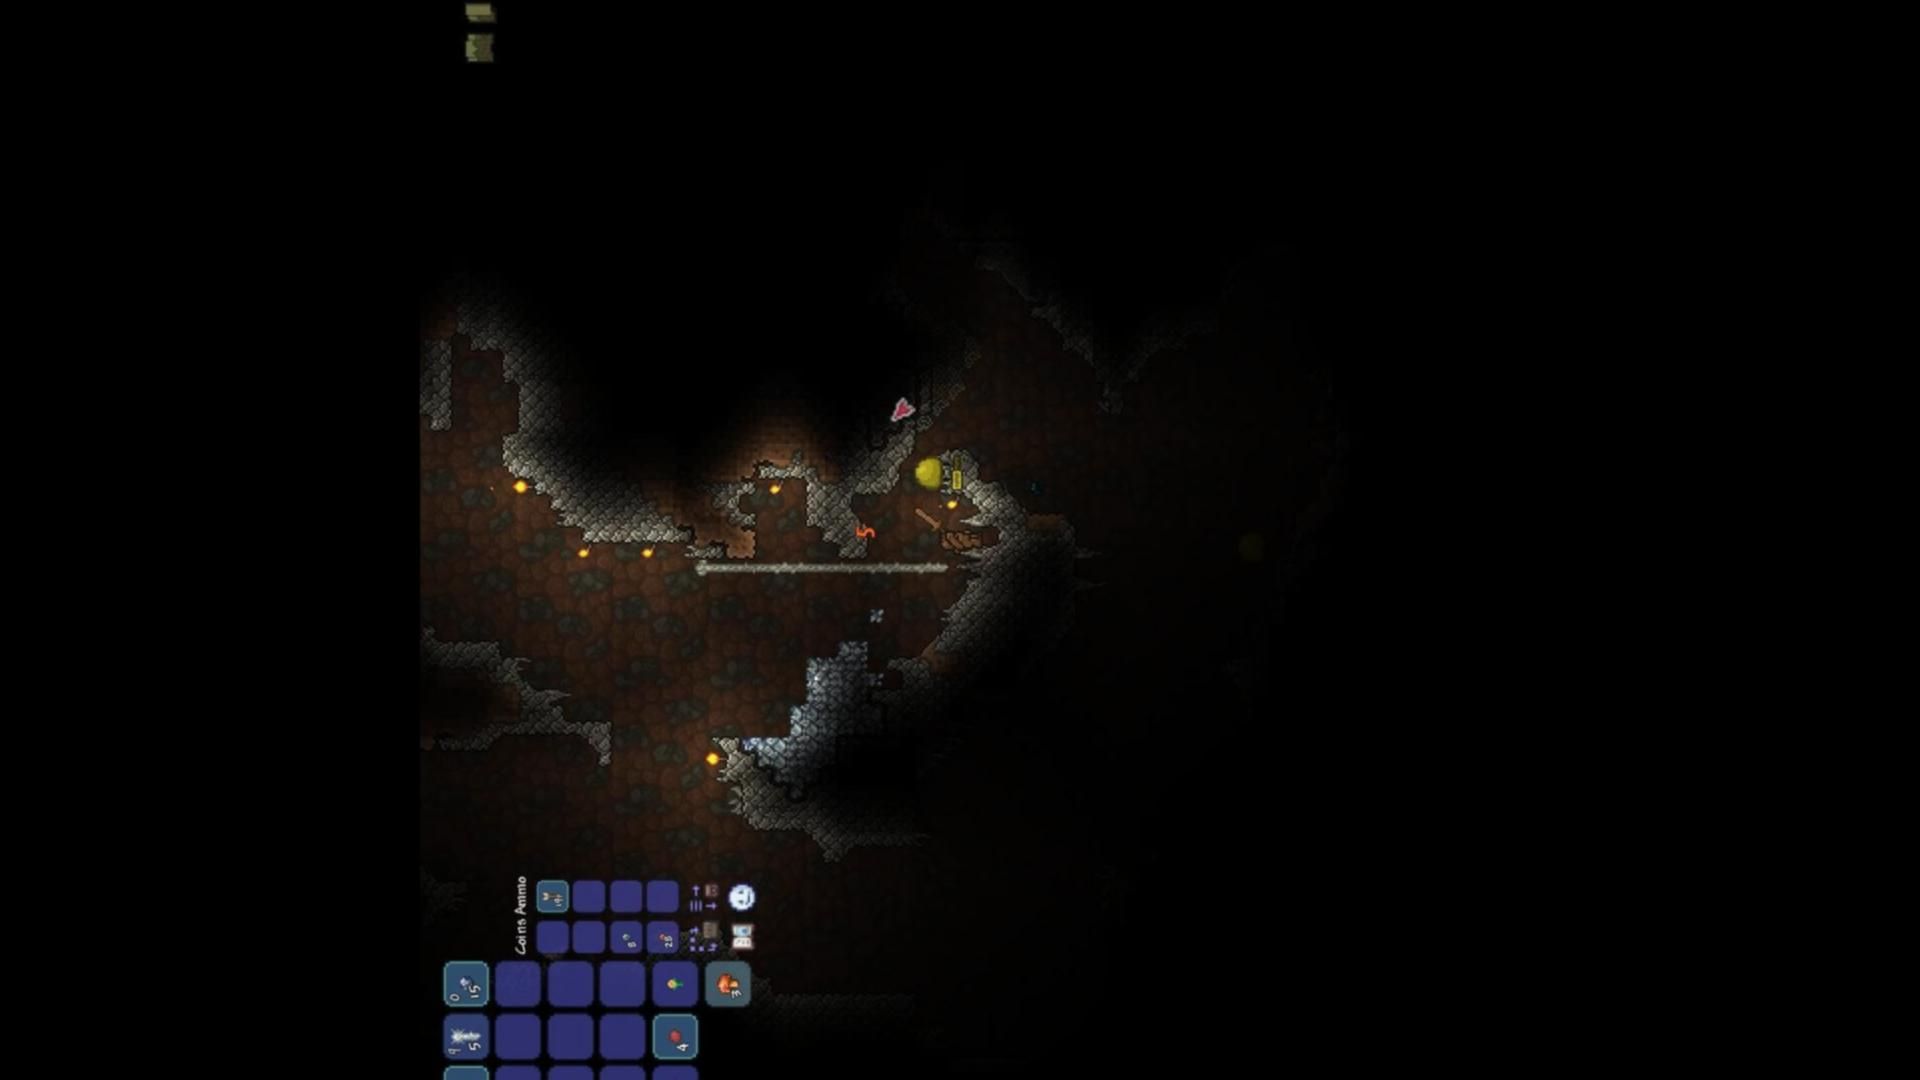gel: (667, 1029, 683, 1043)
rope: (450, 1029, 480, 1044)
slime: (911, 451, 952, 488)
workbench: (537, 886, 563, 901)
